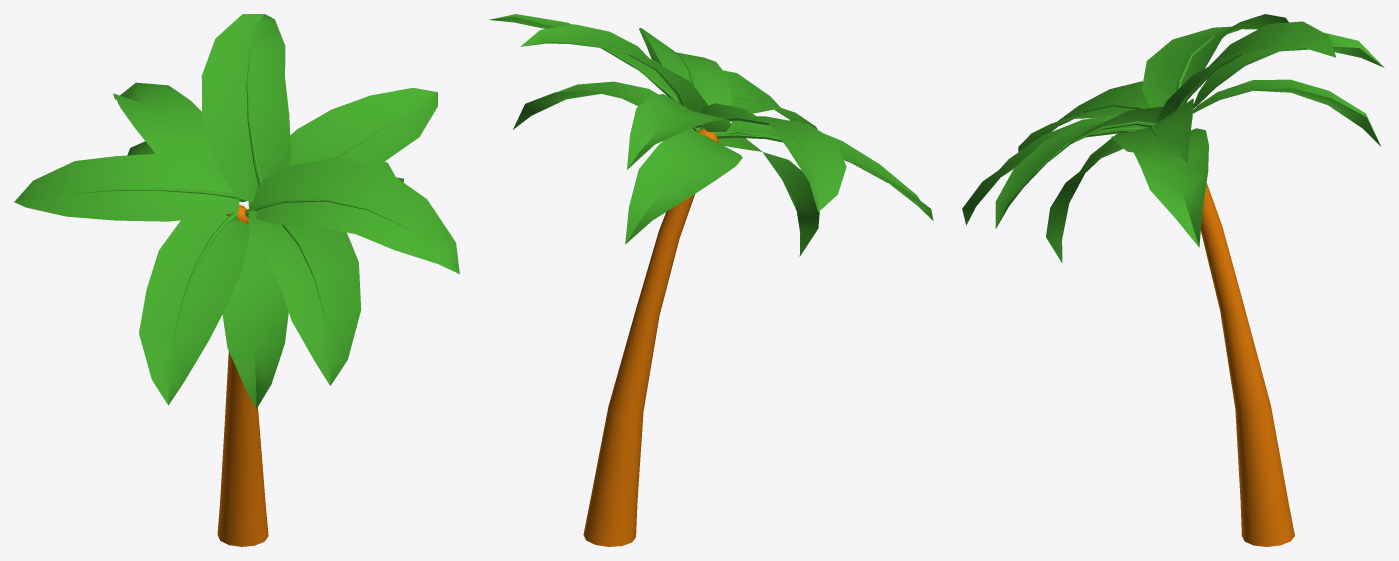
3 renders of one model, left to right at view 1: azimuth 30°, elevation 25°; view 2: azimuth 150°, elevation 25°; view 3: azimuth 270°, elevation 25°, orthographic. The views are drawn at different scales.
Parts seen in each view (by area): view 1: Street_Trees_04; view 2: Street_Trees_04; view 3: Street_Trees_04.
Part boxes in pixels (bbox=[...]): Street_Trees_04: bbox=[14, 14, 459, 546]; Street_Trees_04: bbox=[489, 14, 933, 546]; Street_Trees_04: bbox=[962, 14, 1384, 546].
Bounding box in the file's own units: 189 × 238 × 177.
